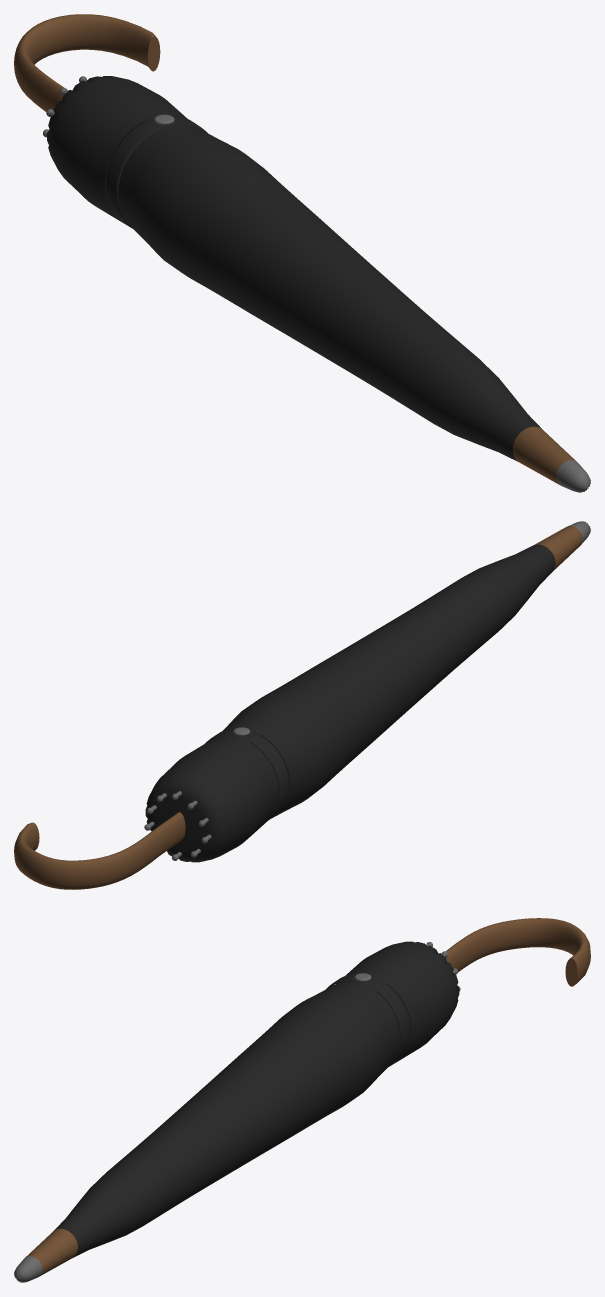
The model's file is UmbrellaGeo 1.fbx.
The picture shows the model from 3 angles, top to bottom: view 1: azimuth 30°, elevation 25°; view 2: azimuth 150°, elevation 25°; view 3: azimuth 330°, elevation 25°; orthographic projection. The views are drawn at different scales.
Parts seen in each view (by area): view 1: umbrellageo; view 2: umbrellageo; view 3: umbrellageo.
Boxes of the visible parts, box(x1,y1,x2,y2) form: umbrellageo: box(14, 14, 590, 492); umbrellageo: box(14, 521, 590, 889); umbrellageo: box(14, 918, 590, 1282).
Size of the model in its own units: 18.04 by 11.26 by 100.
